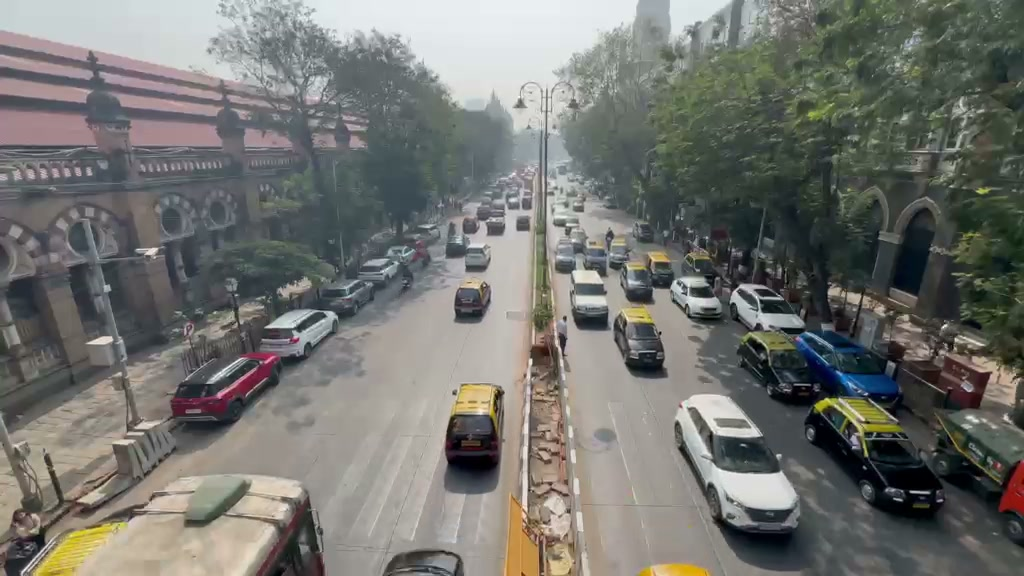bus: (24, 472, 328, 573)
car: (46, 472, 327, 575), (672, 392, 802, 541), (801, 394, 947, 517), (793, 329, 904, 409), (169, 351, 283, 424), (734, 327, 819, 403), (443, 382, 504, 468), (258, 307, 338, 359), (730, 284, 806, 333), (612, 305, 666, 371), (315, 277, 375, 318), (669, 275, 724, 319), (380, 548, 465, 576), (997, 459, 1024, 547), (570, 276, 610, 327), (357, 256, 413, 290), (453, 278, 491, 321), (619, 261, 654, 303), (464, 244, 492, 271)
pedestrian: (0, 509, 45, 575)
truck: (802, 395, 947, 516), (930, 408, 1024, 495)
